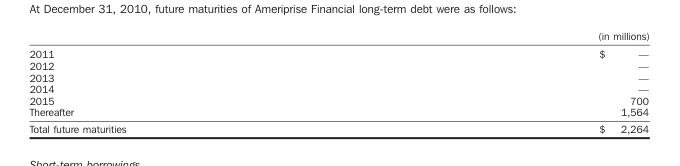table: (28, 29, 648, 134)
table column: (28, 29, 361, 134), (361, 29, 648, 134)
table column header: (28, 29, 648, 44)
table row: (28, 29, 648, 44), (28, 44, 648, 59), (28, 105, 648, 120), (28, 120, 648, 134), (28, 59, 648, 71), (28, 82, 648, 94), (28, 71, 648, 82), (28, 94, 648, 105)
